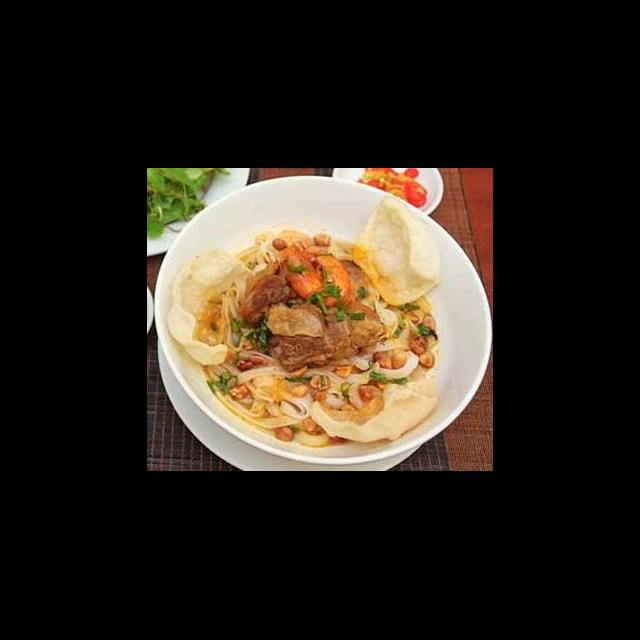banh da: (341, 192, 446, 310), (165, 244, 255, 370), (307, 372, 441, 450)
mi: (203, 348, 373, 432)
tom: (274, 242, 354, 308)
